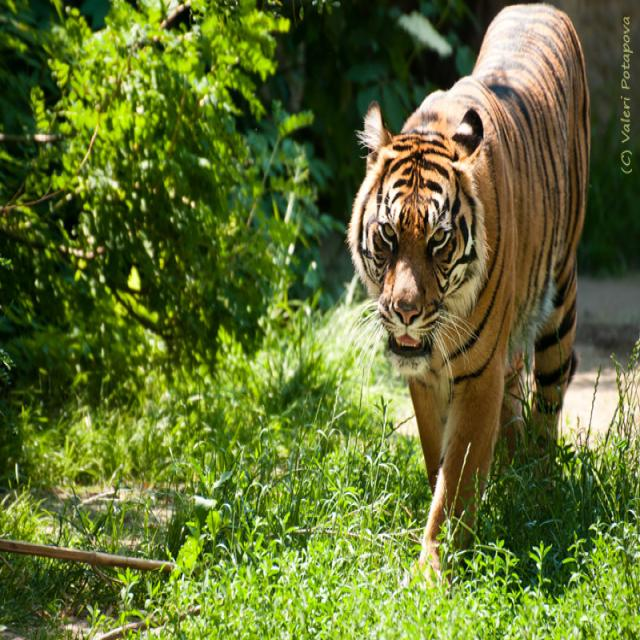Tiger: (340, 2, 588, 596)
